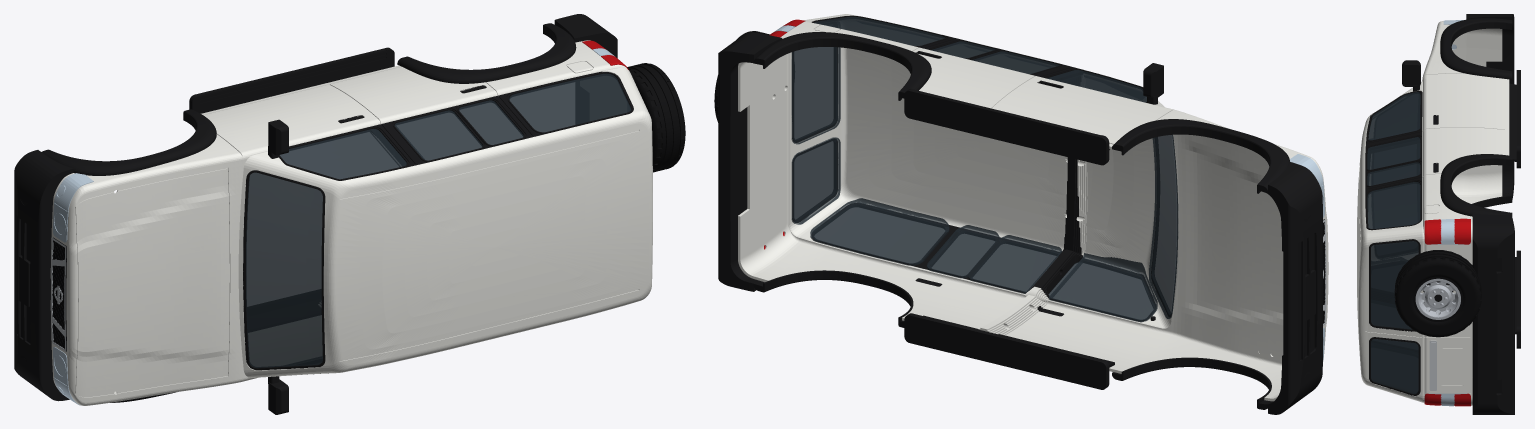
Rendered from patrol_y61_colored.obj.
3 views of the same model, side by side, from view 1: azimuth 30°, elevation 25°; view 2: azimuth 150°, elevation 25°; view 3: azimuth 270°, elevation 25° (orthographic). The views are drawn at different scales.
Parts seen in each view (by area): view 1: body_shell, glass_windscreen, bumper_front, body_black_trim, glass_quarter_R, glass_rear_door_R, side_step_R, glass_front_door_R, spare_tire, flare_rear_R, flare_front_R, grille (+5 smaller); view 2: body_shell, bumper_front, bumper_rear, body_black_trim, side_step_L, side_step_R, glass_quarter_L, glass_rear_door_L, glass_front_door_L, glass_tailgate_R, glass_windscreen, glass_tailgate_L (+8 smaller); view 3: body_shell, bumper_rear, spare_tire, body_black_trim, glass_tailgate_R, glass_tailgate_L, glass_quarter_R, glass_rear_door_R, flare_front_R, flare_rear_R, glass_front_door_R, spare_wheel (+8 smaller).
Part boxes in pixels (bbox=[...]): body_shell: bbox=[50, 40, 652, 405]; glass_windscreen: bbox=[246, 172, 322, 367]; bumper_front: bbox=[14, 150, 73, 401]; body_black_trim: bbox=[243, 71, 633, 374]; glass_quarter_R: bbox=[509, 73, 630, 132]; glass_rear_door_R: bbox=[394, 100, 523, 160]; side_step_R: bbox=[189, 47, 394, 113]; glass_front_door_R: bbox=[280, 128, 406, 179]; spare_tire: bbox=[627, 63, 685, 172]; flare_rear_R: bbox=[397, 23, 576, 83]; flare_front_R: bbox=[41, 109, 216, 175]; grille: bbox=[51, 237, 66, 351]; body_shell: bbox=[738, 14, 1328, 401]; bumper_front: bbox=[1268, 162, 1322, 414]; bumper_rear: bbox=[718, 32, 782, 291]; body_black_trim: bbox=[792, 15, 1177, 320]; side_step_L: bbox=[904, 313, 1114, 389]; side_step_R: bbox=[904, 88, 1109, 165]; glass_quarter_L: bbox=[810, 198, 949, 265]; glass_rear_door_L: bbox=[927, 225, 1061, 293]; glass_front_door_L: bbox=[1048, 253, 1157, 322]; glass_tailgate_R: bbox=[791, 47, 840, 144]; glass_windscreen: bbox=[1149, 134, 1178, 318]; glass_tailgate_L: bbox=[791, 137, 840, 224]; body_shell: bbox=[1357, 21, 1509, 405]; bumper_rear: bbox=[1472, 213, 1514, 414]; spare_tire: bbox=[1394, 250, 1481, 337]; body_black_trim: bbox=[1365, 91, 1438, 395]; glass_tailgate_R: bbox=[1371, 241, 1418, 329]; glass_tailgate_L: bbox=[1371, 339, 1418, 393]; glass_quarter_R: bbox=[1367, 182, 1420, 228]; glass_rear_door_R: bbox=[1367, 137, 1420, 185]; flare_front_R: bbox=[1440, 18, 1512, 79]; flare_rear_R: bbox=[1440, 154, 1512, 216]; glass_front_door_R: bbox=[1368, 92, 1420, 140]; spare_wheel: bbox=[1415, 278, 1460, 319].
Bounding box in the file's own units: 278 × 126 × 81.33.
